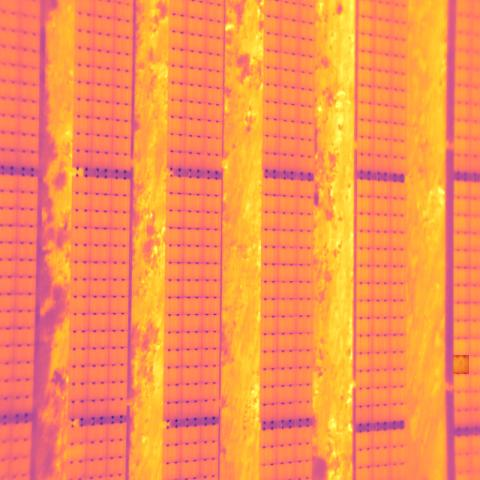fault: (453, 355, 470, 374)
